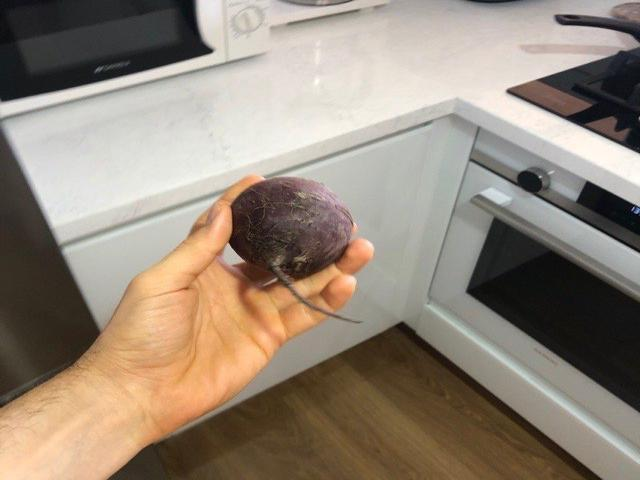beet: (229, 176, 365, 324)
